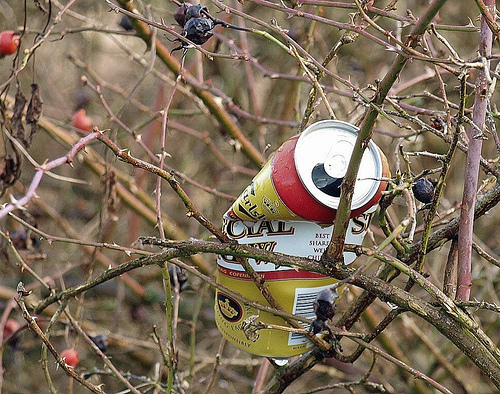litter: (216, 121, 387, 365)
